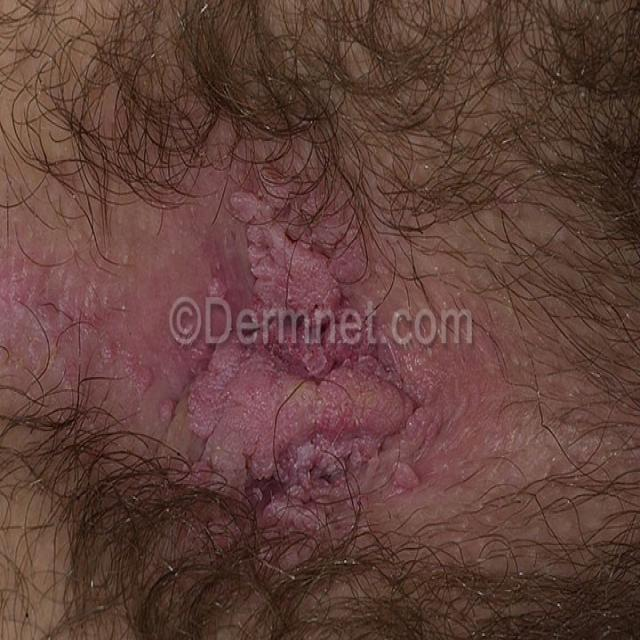Shingles: (195, 182, 418, 516)
